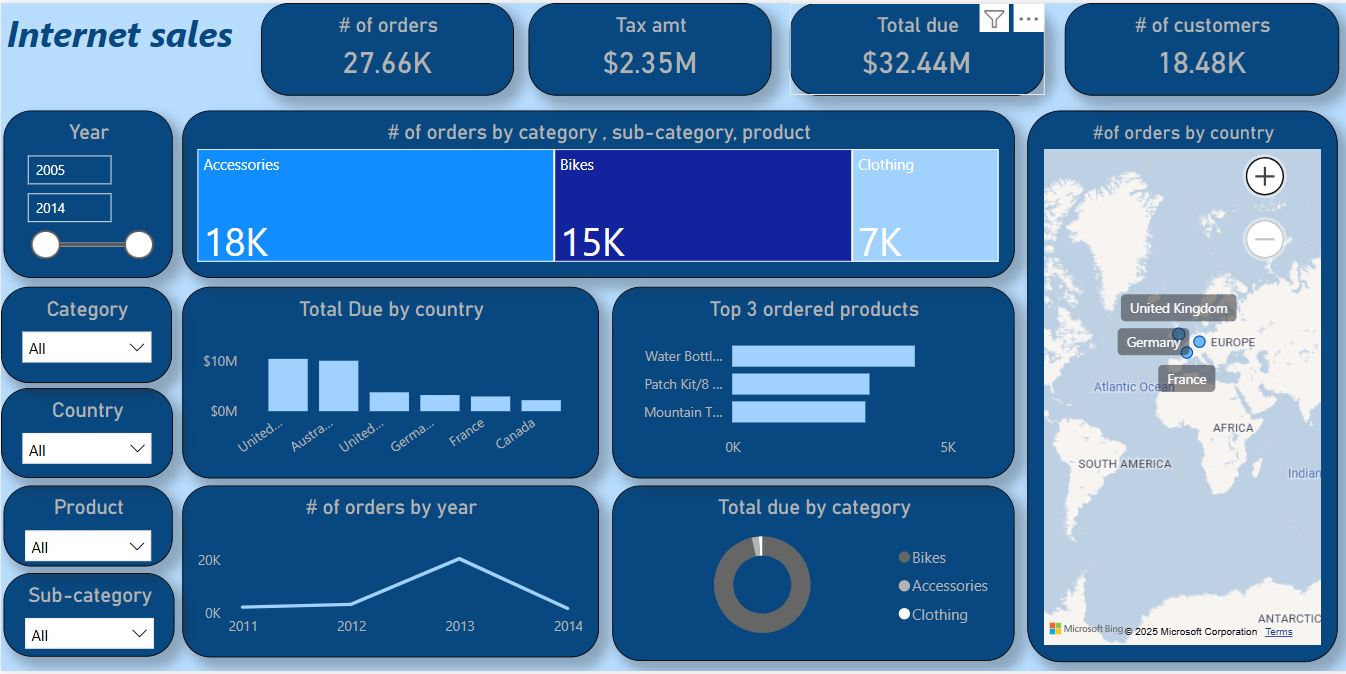

The dashboard page shown, as its layout file describes it:
{"tool":"powerbi","page":{"name":"sales","canvas":[1200,594],"ordinal":0},"visuals":[{"type":"textbox","box":[0,0,1200,80],"z":0},{"type":"card","title":"# of orders","fields":{"Values":["Count(FactInternetSales.SalesOrderNumber)"]},"box":[5,252.5,150,82.5],"z":2000},{"type":"columnChart","title":"Total Due by country","fields":{"Y":["FactInternetSales.Total Due"],"Category":["DimSalesTerritory.SalesTerritoryCountry"]},"box":[161.2,252.5,370,170],"z":5000},{"type":"lineChart","title":"# of orders by year","fields":{"Category":["DimDate.CalendarYear"],"Y":["FactInternetSales.#of orders"]},"box":[161.2,428.8,370,152.5],"z":6000},{"type":"donutChart","title":"Total due by category","fields":{"Category":["DimProductCategory.EnglishProductCategoryName"],"Y":["FactInternetSales.Total Due"]},"box":[543.8,428.8,357.5,156.2],"z":7000},{"type":"clusteredBarChart","title":"Top 3 products in orders","fields":{"Category":["DimProduct.EnglishProductName"],"Y":["FactInternetSales.#of orders"]},"box":[543.8,252.5,357.5,170],"z":8000},{"type":"treemap","title":"# of orders by category , sub-category, product","fields":{"Group":["DimProductCategory.EnglishProductCategoryName","DimProductSubcategory.EnglishProductSubcategoryName","DimProduct.EnglishProductName"],"Values":["FactInternetSales.#of orders"]},"box":[161.2,95,740,148.8],"z":9000},{"type":"map","title":"#of orders by country","fields":{"Category":["DimSalesTerritory.SalesTerritoryCountry"],"Size":["FactInternetSales.#of orders"]},"box":[912.5,95,287.5,500],"z":10000},{"type":"slicer","title":"Sub-category","fields":{"Values":["DimProductSubcategory.EnglishProductSubcategoryName"]},"box":[531.2,0,211.2,80],"z":11000},{"type":"slicer","title":"Product","fields":{"Values":["DimProduct.EnglishProductName"]},"box":[766.2,0,216.2,80],"z":12000},{"type":"slicer","title":"Year","fields":{"Values":["DimDate.CalendarYear"]},"box":[2.5,95,150,148.8],"z":13000},{"type":"slicer","title":"Country","fields":{"Values":["DimSalesTerritory.SalesTerritoryCountry"]},"box":[1006.2,0,193.8,80],"z":14000},{"type":"slicer","title":"Category","fields":{"Values":["DimProductCategory.Category"]},"box":[300,0,211.2,80],"z":15000},{"type":"card","title":"Tax amt","fields":{"Values":["Sum(FactInternetSales.TaxAmt)"]},"box":[5,337.5,150,82.5],"z":15001},{"type":"card","title":"Total due","fields":{"Values":["FactInternetSales.Total Due"]},"box":[5,425,150,82.5],"z":15002},{"type":"card","title":"# of customers","fields":{"Values":["Count(DimCustomer.CustomerKey)"]},"box":[5,511.2,150,82.5],"z":15003}]}

Visuals, with their boxes in screenshot pixels (x1, y1, x2, y2), scaled from the page's 1200x594 canvas onto the 1346x674 screenshot:
textbox: (0, 0, 1345, 91)
"# of orders" card: (6, 287, 174, 380)
"Total Due by country" columnChart: (181, 287, 596, 479)
"# of orders by year" lineChart: (181, 487, 596, 660)
"Total due by category" donutChart: (610, 487, 1011, 664)
"Top 3 products in orders" clusteredBarChart: (610, 287, 1011, 479)
"# of orders by category , sub-category, product" treemap: (181, 108, 1011, 277)
"#of orders by country" map: (1024, 108, 1345, 673)
"Sub-category" slicer: (596, 0, 833, 91)
"Product" slicer: (859, 0, 1102, 91)
"Year" slicer: (3, 108, 171, 277)
"Country" slicer: (1129, 0, 1345, 91)
"Category" slicer: (336, 0, 573, 91)
"Tax amt" card: (6, 383, 174, 477)
"Total due" card: (6, 482, 174, 576)
"# of customers" card: (6, 580, 174, 673)
